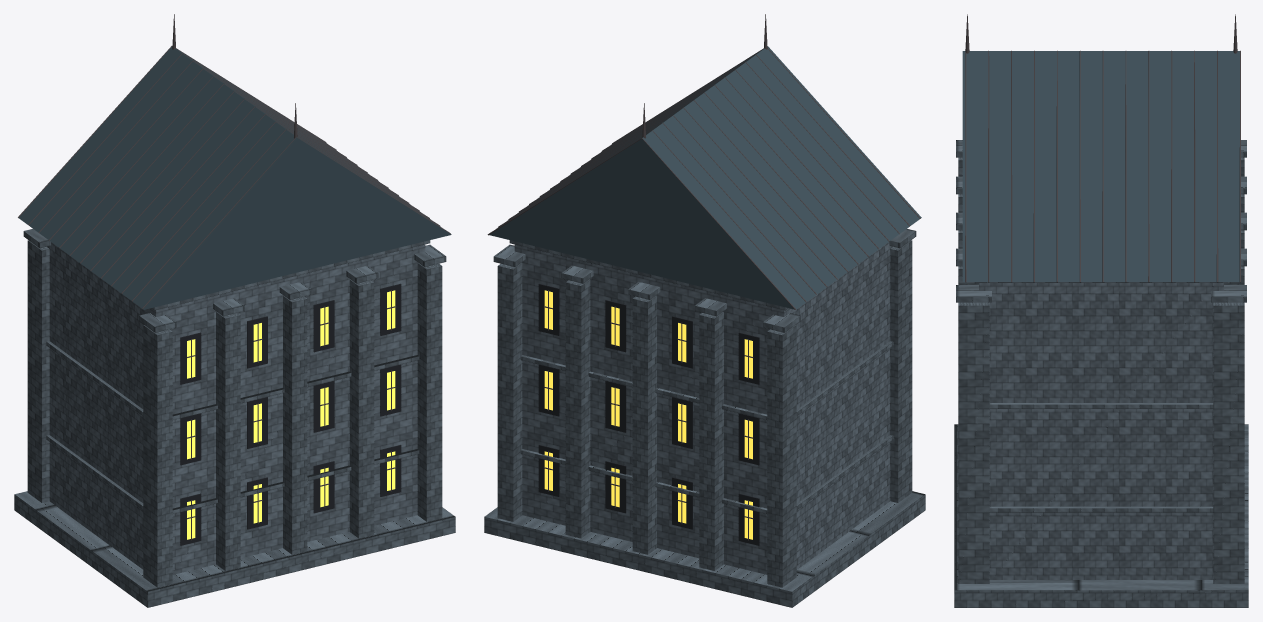
The model's file is great-hall.glb.
The picture shows the model from 3 angles, left to right: view 1: azimuth 30°, elevation 25°; view 2: azimuth 150°, elevation 25°; view 3: azimuth 270°, elevation 25°; orthographic projection. The views are drawn at different scales.
Parts seen in each view (by area): view 1: great-hall; view 2: great-hall; view 3: great-hall.
Part boxes in pixels (left/top/right/bottom): great-hall: left=14, top=14, right=455, bottom=607; great-hall: left=484, top=14, right=925, bottom=607; great-hall: left=954, top=14, right=1248, bottom=607.
Size of the model in its own units: 24.06 by 34.5 by 18.
Materials: 6 (2 with a texture image).
